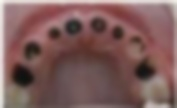Caries: (10, 62, 38, 87), (134, 55, 159, 80), (63, 18, 83, 38), (22, 39, 41, 60), (88, 15, 108, 34), (126, 37, 145, 57), (45, 26, 61, 42), (111, 25, 123, 41)
